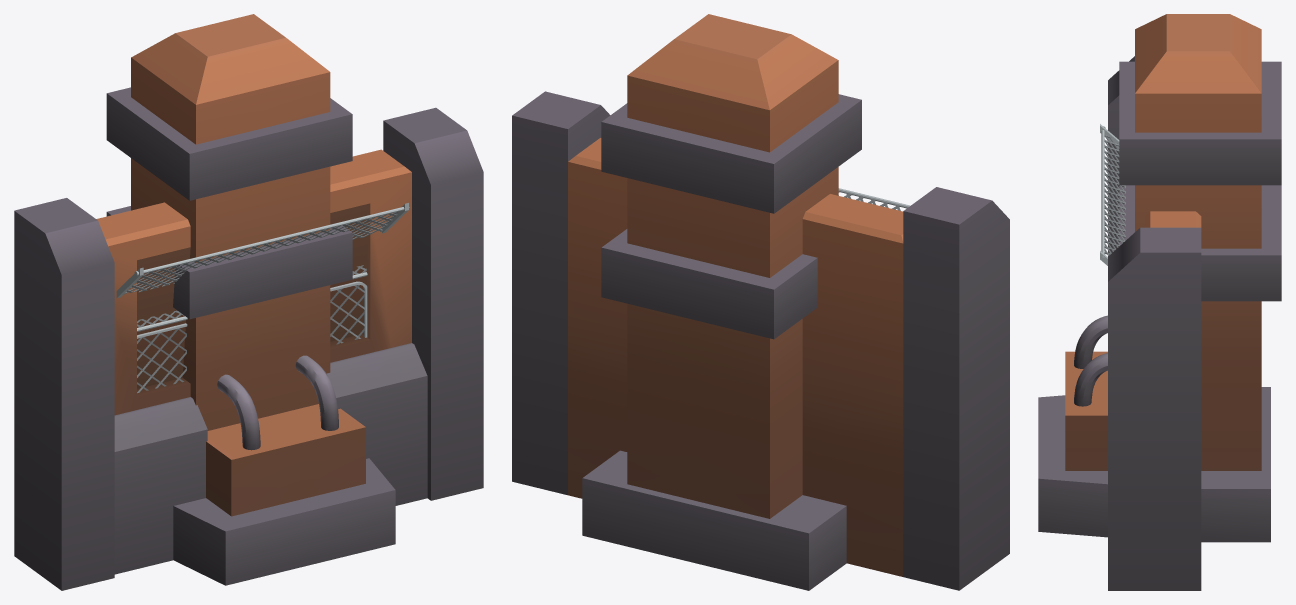
The model's file is Fence 3.fbx.
3 views of the same model, side by side, from view 1: azimuth 30°, elevation 25°; view 2: azimuth 150°, elevation 25°; view 3: azimuth 270°, elevation 25° (orthographic). The views are drawn at different scales.
Visible parts, largest first — view 1: Center_Wall_2, Corner_Piller_2, Fence_01; view 2: Center_Wall_2, Corner_Piller_2; view 3: Corner_Piller_2, Center_Wall_2, Fence_01.
Boxes of the visible parts, x1,y1,x2,y2 form: Center_Wall_2: (14, 107, 483, 590); Corner_Piller_2: (106, 14, 395, 585); Fence_01: (116, 203, 409, 393); Center_Wall_2: (512, 91, 1009, 590); Corner_Piller_2: (582, 14, 861, 590); Corner_Piller_2: (1038, 14, 1281, 542); Center_Wall_2: (1108, 56, 1201, 590); Fence_01: (1100, 124, 1125, 265).
Size of the model in its own units: 0.0515 by 0.0547 by 0.0263.
1 material, 1 textured.
